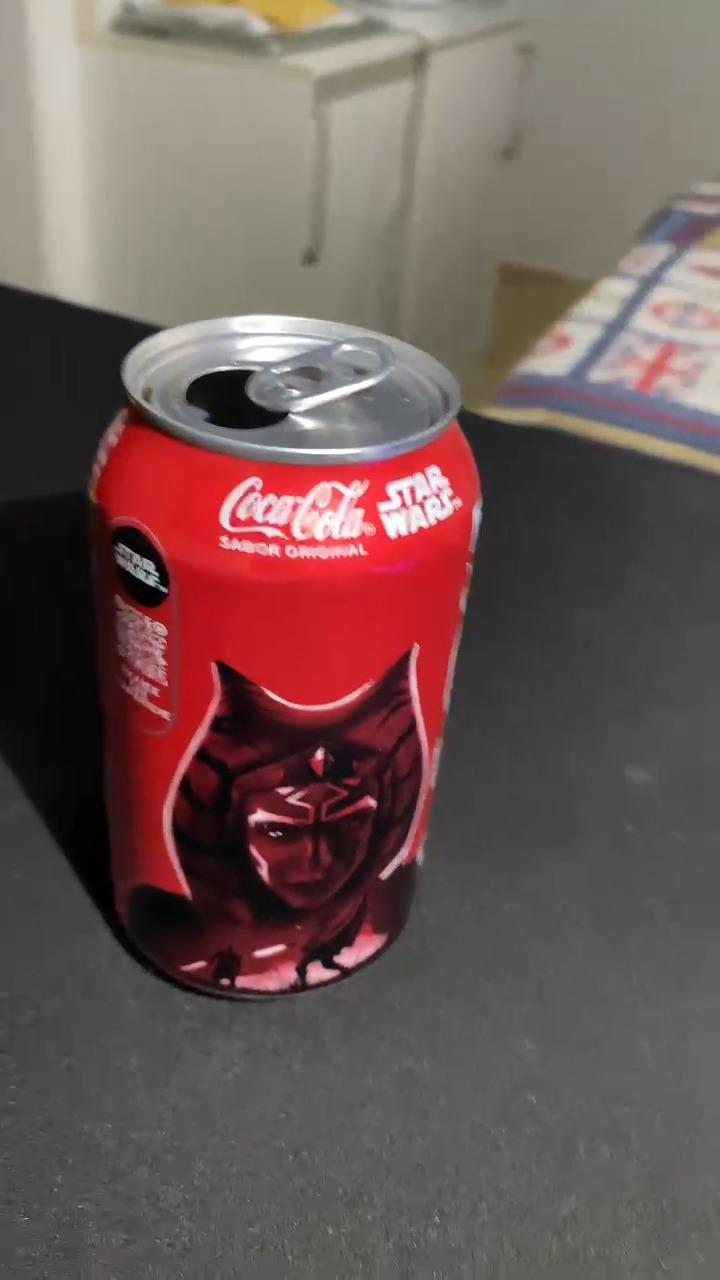coke: (89, 322, 480, 993)
